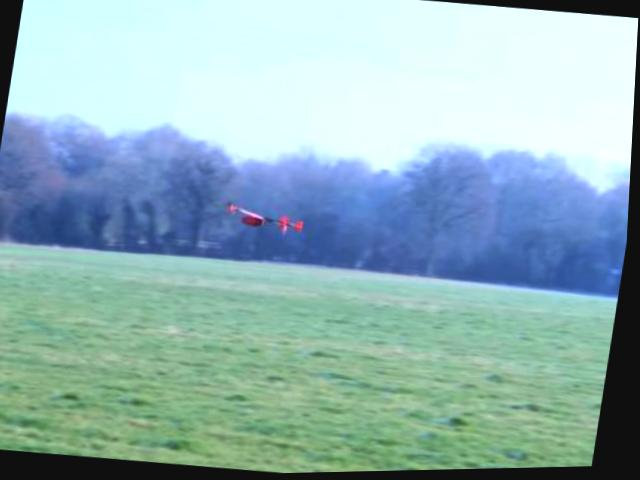uav: (225, 191, 315, 241)
